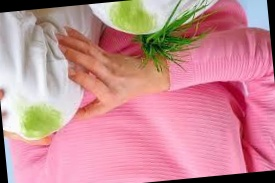earth: (109, 0, 153, 34), (21, 104, 60, 136)
